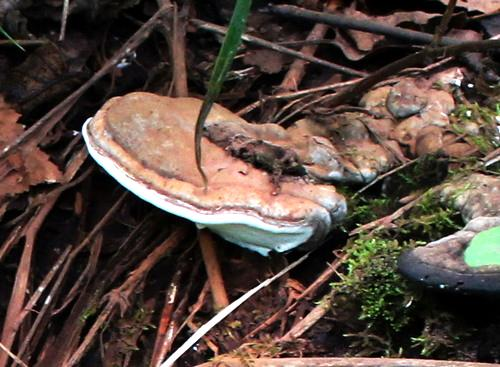Ganoderma - Fruit Body: (83, 70, 480, 260)
